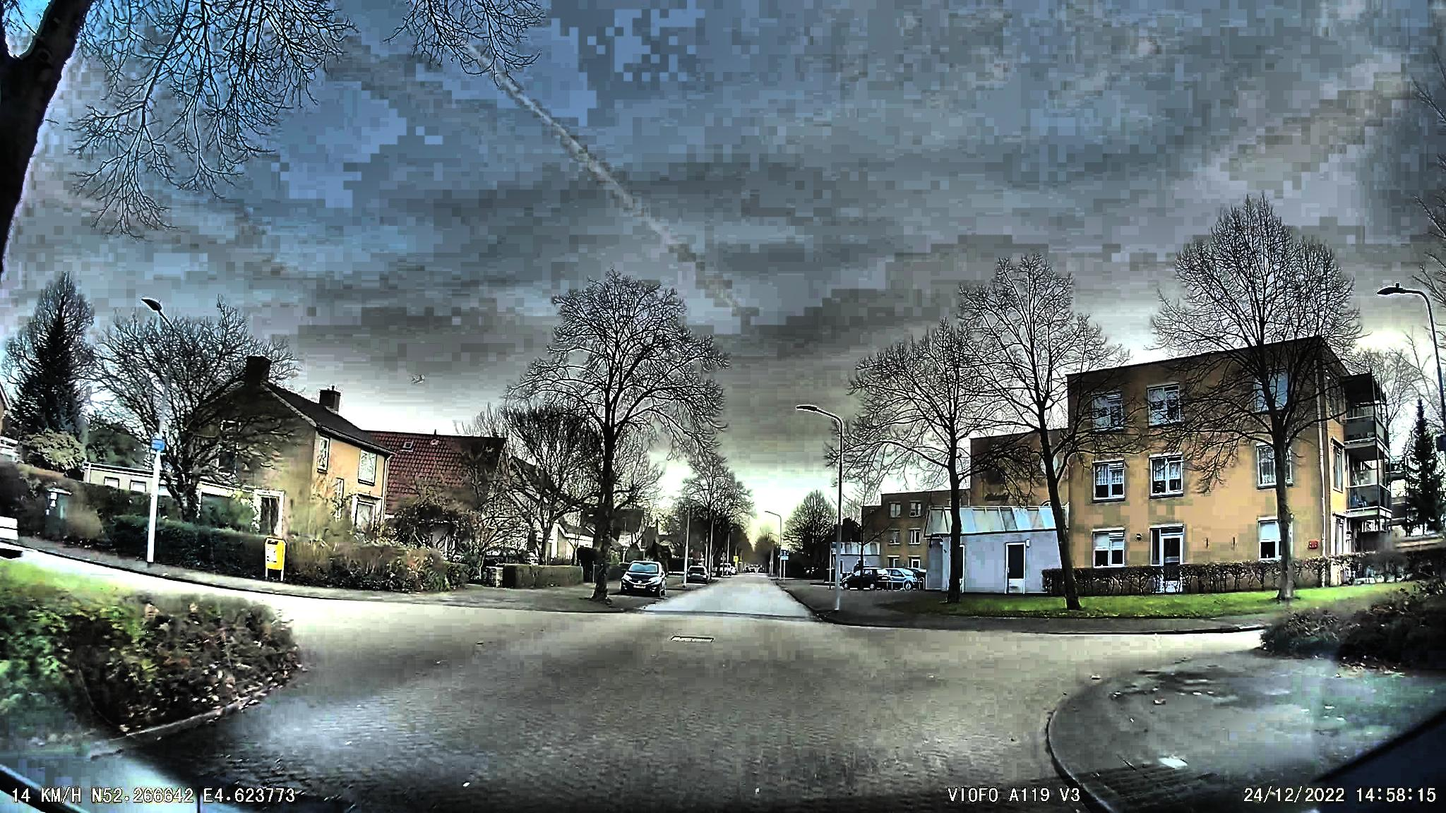Roads: (191, 576, 1248, 813)
